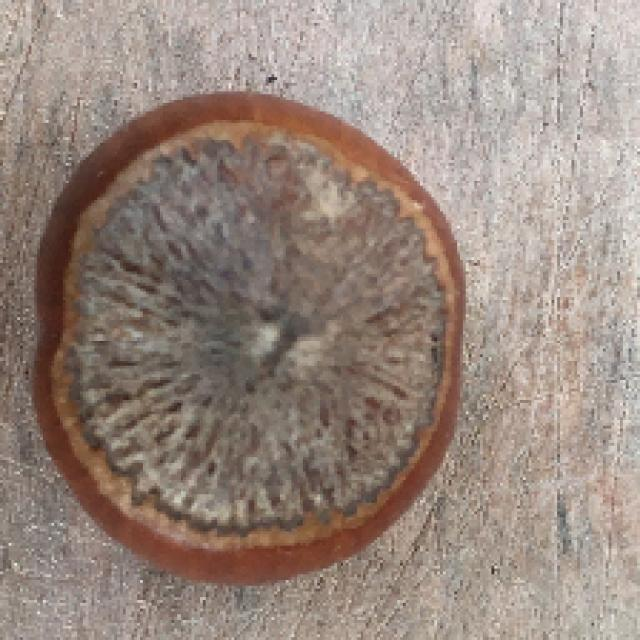qualityHazelnut: (44, 95, 461, 587)
